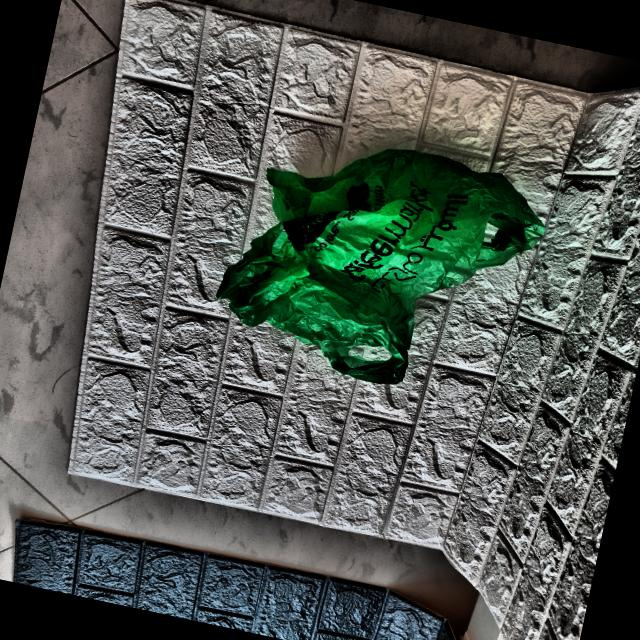plastic bag: (192, 104, 568, 430)
